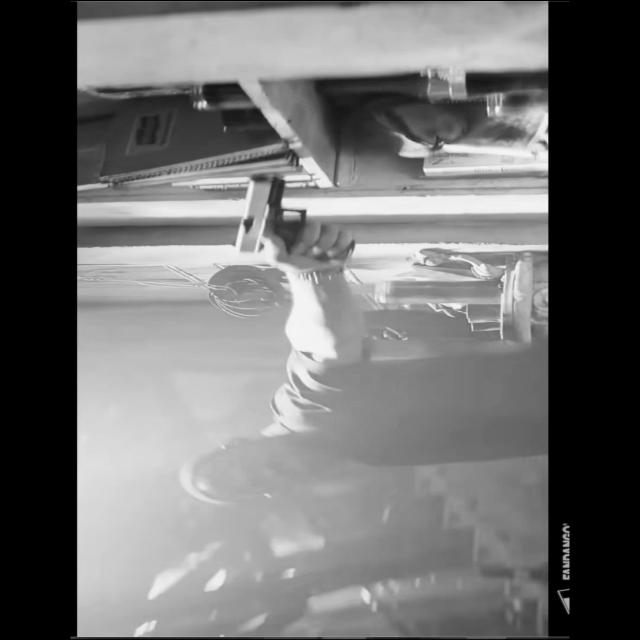weapons: (208, 169, 370, 271)
